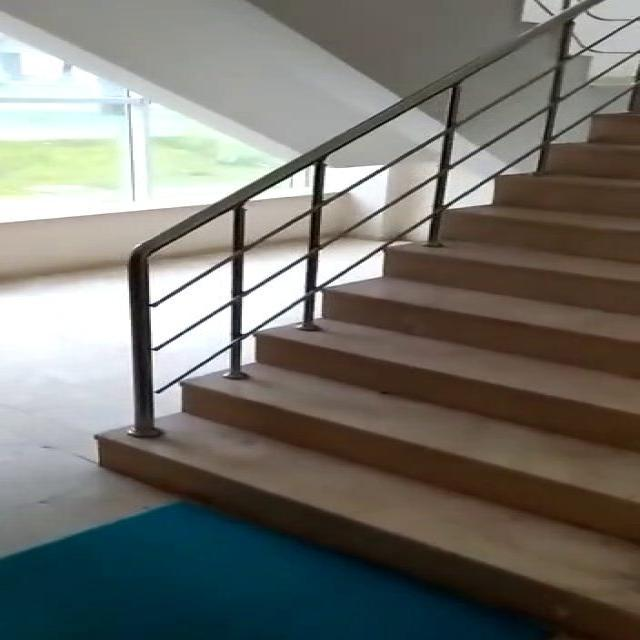stair: (72, 40, 640, 640)
